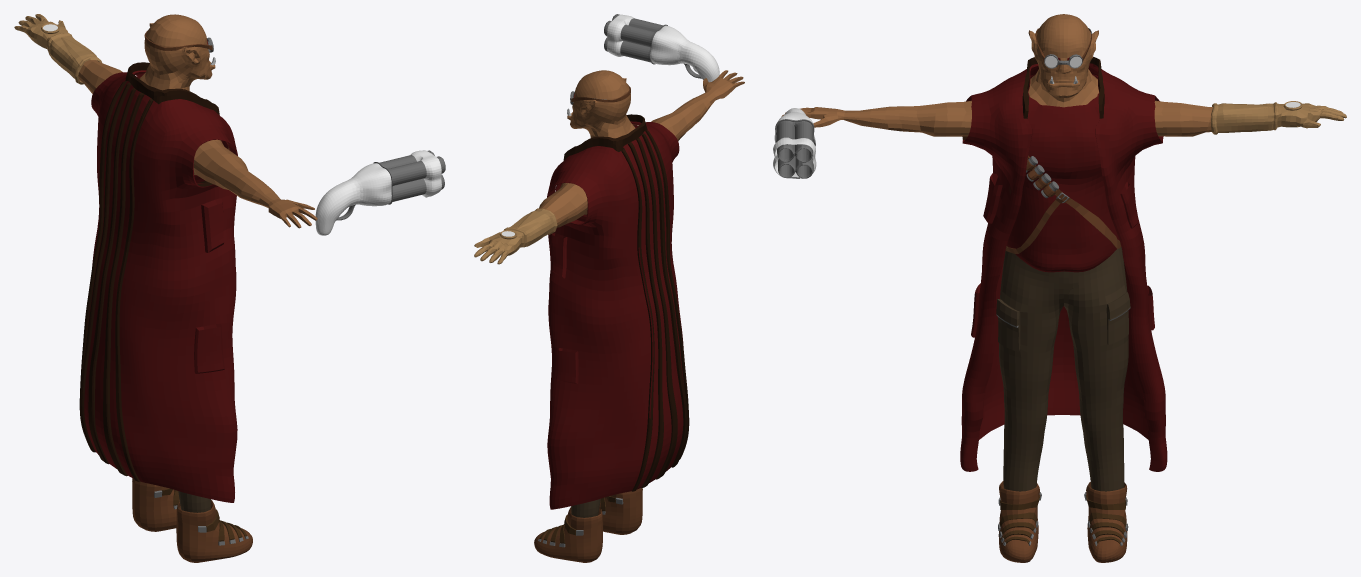
Rendered from artificier-ork2.fbx.
The picture shows the model from 3 angles, left to right: view 1: azimuth 30°, elevation 25°; view 2: azimuth 150°, elevation 25°; view 3: azimuth 270°, elevation 25°; orthographic projection. The views are drawn at different scales.
Parts seen in each view (by area): view 1: coat, body, gun, boots, glove, pants; view 2: coat, body, boots, gun, glove, pants; view 3: coat, pants, shirt, body, boots, glove, gun, belt.
Part boxes in pixels (x1,y1,x2,y2): coat: (79, 62, 237, 502); body: (78, 14, 317, 228); gun: (315, 150, 445, 235); boots: (132, 478, 252, 562); glove: (14, 14, 101, 84); pants: (178, 491, 210, 512); coat: (547, 114, 689, 509); body: (539, 70, 744, 227); boots: (534, 488, 642, 562); gun: (604, 14, 719, 82); glove: (474, 208, 557, 264); pants: (571, 499, 600, 517); coat: (960, 56, 1167, 471); pants: (996, 246, 1130, 491); shirt: (1006, 74, 1119, 272); body: (781, 14, 1212, 136); boots: (998, 481, 1128, 562); glove: (1211, 101, 1346, 134); gun: (773, 108, 816, 178); belt: (1005, 155, 1121, 253).
Size of the model in its own units: 711 by 1699 by 1687.
Materials: 15 (2 with a texture image).
